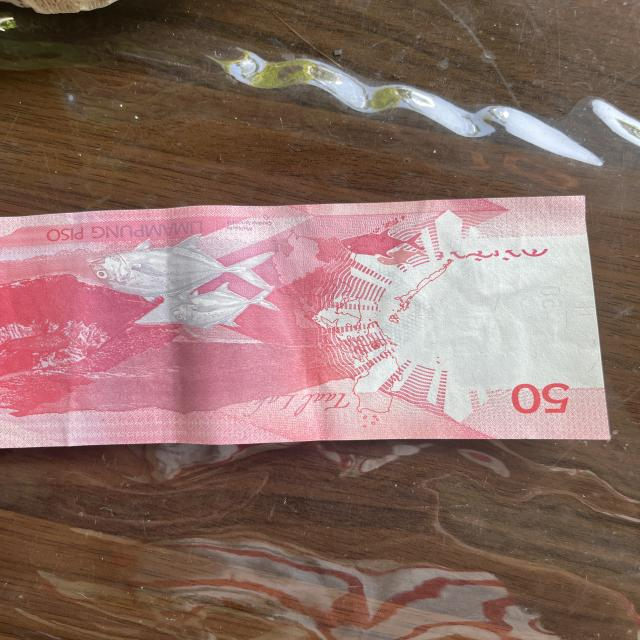50_maliputo: (78, 232, 290, 334)
50_maliputo_watermark: (330, 222, 426, 268)
value_watermark: (532, 276, 578, 316)
watermark: (394, 240, 567, 382)
